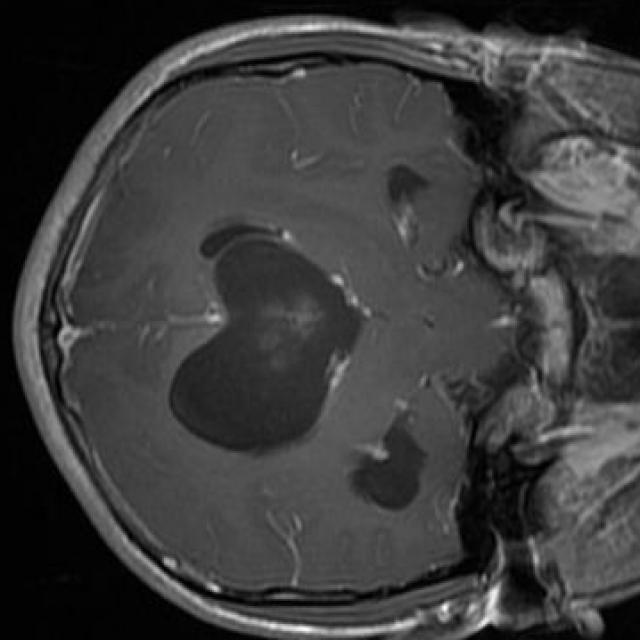glioma: (169, 230, 371, 458)
